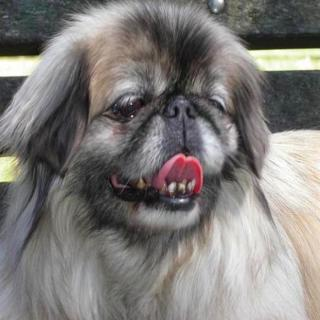dog: (37, 0, 263, 238)
nose: (162, 88, 200, 126)
